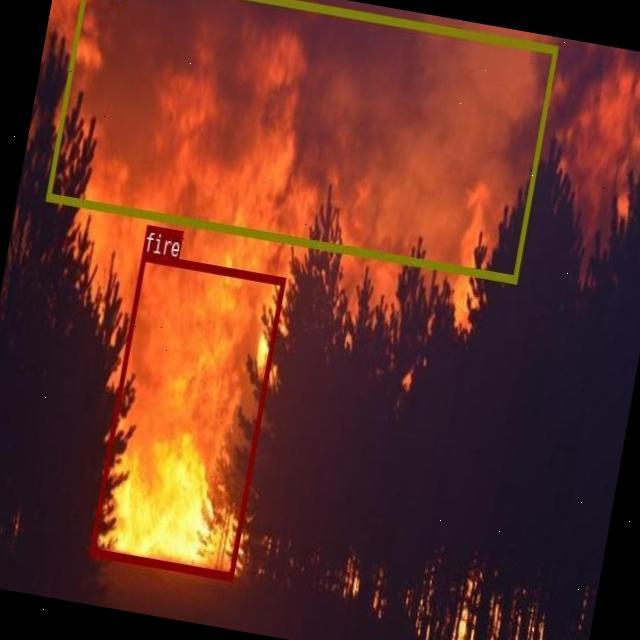fire: (89, 252, 285, 578)
smoke: (45, 0, 557, 280)
